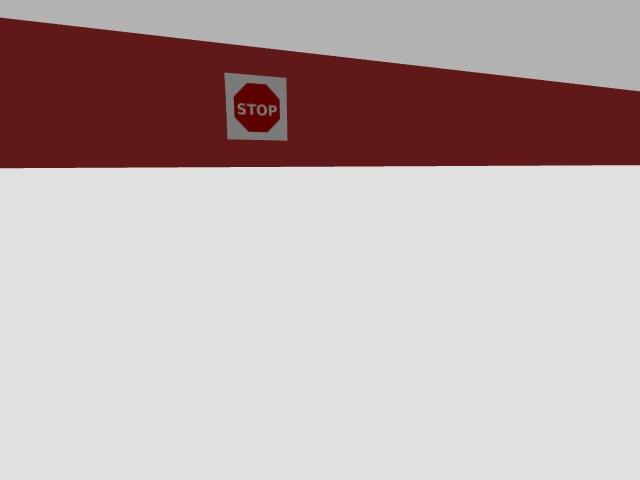stop: (224, 73, 286, 140)
